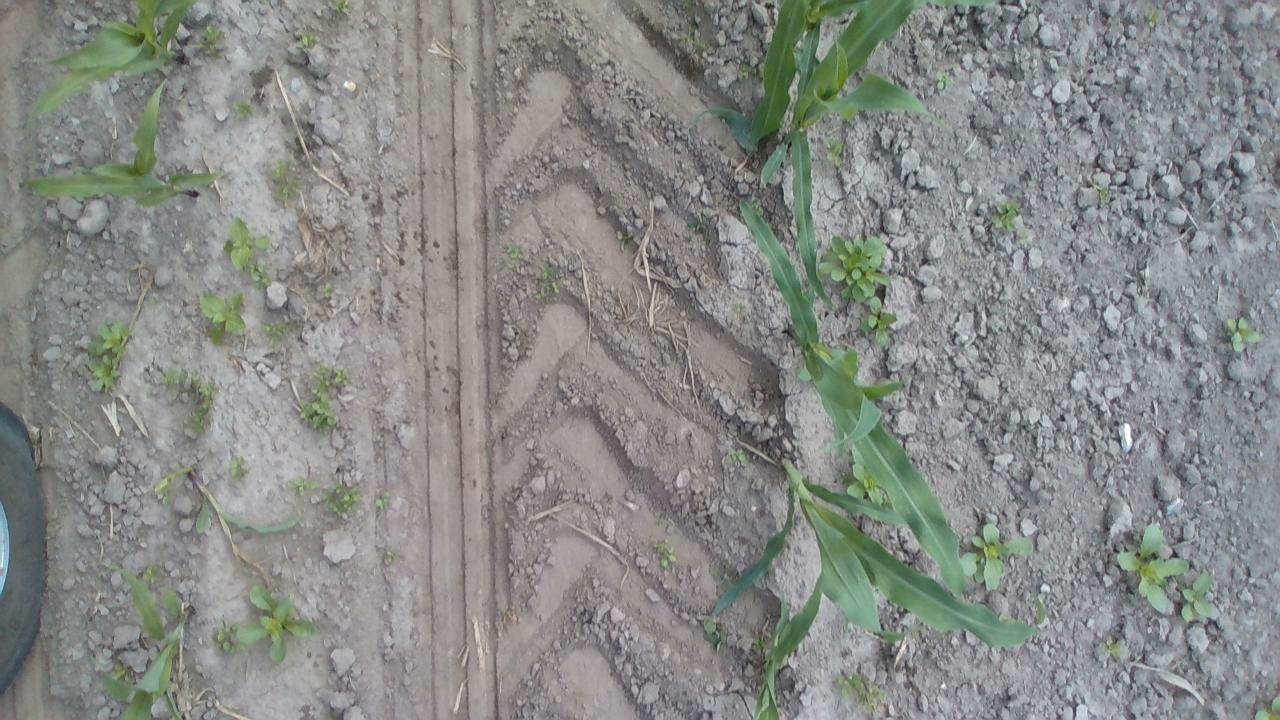Maize: (736, 193, 971, 599), (704, 452, 1054, 672), (757, 1, 992, 318), (25, 78, 228, 207), (688, 0, 844, 143), (22, 0, 196, 122), (150, 459, 298, 578), (90, 559, 196, 720), (754, 589, 802, 720)
Weeds: (1114, 517, 1190, 617), (237, 583, 316, 664), (816, 227, 894, 301), (150, 364, 222, 439), (963, 519, 1034, 592), (296, 362, 352, 431), (86, 318, 132, 396), (217, 215, 274, 270), (830, 668, 890, 716), (194, 289, 247, 343), (1180, 565, 1221, 625), (853, 294, 898, 342), (264, 152, 300, 206), (1222, 312, 1266, 356), (321, 476, 363, 519), (986, 190, 1022, 236), (667, 16, 709, 54), (198, 21, 230, 67), (532, 260, 562, 300), (280, 476, 324, 502), (260, 317, 296, 348), (650, 536, 680, 568), (821, 132, 847, 168), (214, 620, 241, 654), (685, 215, 715, 245), (927, 64, 955, 93), (1252, 693, 1280, 720), (226, 450, 247, 483), (231, 98, 256, 123), (503, 239, 527, 265), (247, 265, 273, 288), (292, 34, 320, 54), (736, 57, 758, 82), (704, 620, 722, 650), (1091, 182, 1113, 206), (110, 662, 134, 684), (1102, 636, 1124, 658), (616, 228, 634, 254), (1142, 4, 1160, 29), (373, 488, 391, 510), (316, 282, 336, 300), (727, 446, 747, 463), (138, 562, 154, 582), (328, 0, 348, 15), (753, 635, 767, 652), (678, 0, 697, 11), (736, 300, 748, 313), (752, 201, 764, 214)
